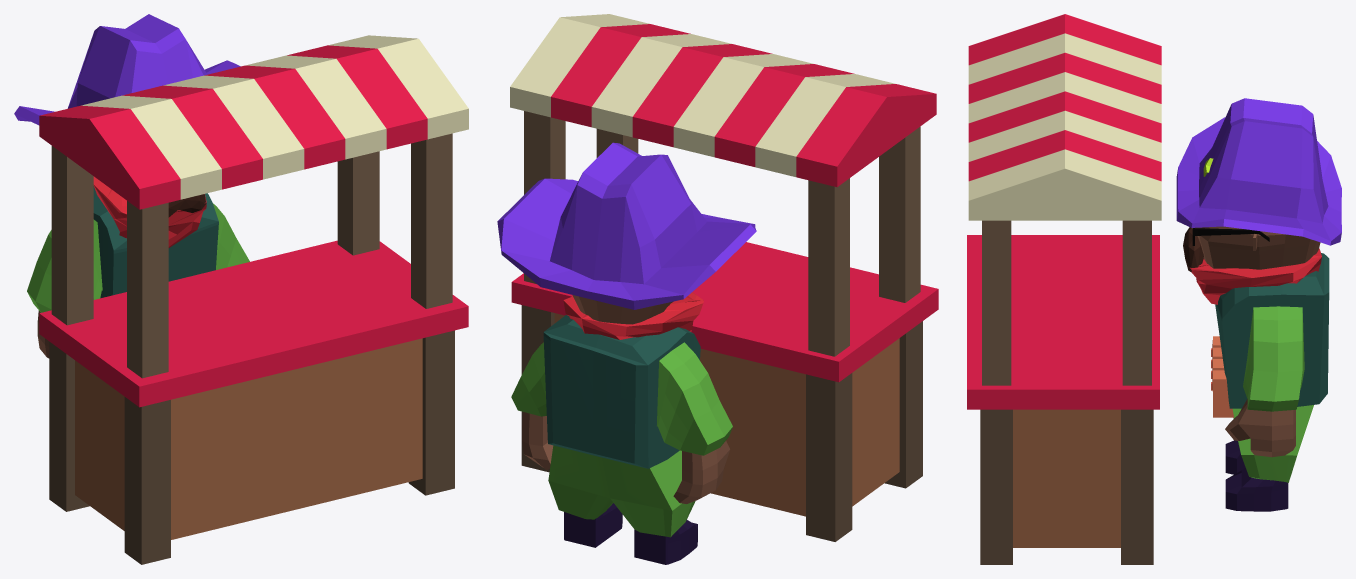
Rendered from shop.glb.
3 views of the same model, side by side, from view 1: azimuth 30°, elevation 25°; view 2: azimuth 150°, elevation 25°; view 3: azimuth 270°, elevation 25° (orthographic). The views are drawn at different scales.
Parts seen in each view (by area): view 1: Cube.007, Cube.005, Cube, Cube.000, Cube.011, Cube.004, Cube.003, Cube.001, Cube.010, Cube.008, Cube.002; view 2: Cube.000, Cube.007, Cube, Cube.005, Cube.008, Cube.001, Cube.004, Cube.011, Cube.002, Cube.009, Cube.003; view 3: Cube.000, Cube.007, Cube, Cube.005, Cube.009, Cube.010, Cube.002, Cube.003.
Part boxes in pixels (<box>): Cube.007: <box>39,35,468,209</box>; Cube.005: <box>75,338,422,539</box>; Cube: <box>39,240,468,407</box>; Cube.000: <box>14,14,249,358</box>; Cube.011: <box>124,397,170,564</box>; Cube.004: <box>127,201,168,378</box>; Cube.003: <box>411,133,452,308</box>; Cube.001: <box>51,146,93,325</box>; Cube.010: <box>408,330,454,495</box>; Cube.008: <box>49,341,89,511</box>; Cube.002: <box>337,151,379,255</box>; Cube.000: <box>497,142,756,564</box>; Cube.007: <box>510,14,936,186</box>; Cube: <box>511,242,938,382</box>; Cube.005: <box>554,313,899,516</box>; Cube.008: <box>806,373,852,541</box>; Cube.001: <box>808,178,849,356</box>; Cube.004: <box>879,126,920,302</box>; Cube.011: <box>884,321,922,488</box>; Cube.002: <box>524,111,565,283</box>; Cube.009: <box>521,305,554,472</box>; Cube.003: <box>596,128,638,157</box>; Cube.000: <box>1176,98,1341,511</box>; Cube.007: <box>968,14,1161,220</box>; Cube: <box>967,235,1159,409</box>; Cube.005: <box>1013,409,1120,547</box>; Cube.009: <box>1121,409,1153,564</box>; Cube.010: <box>980,409,1012,564</box>; Cube.002: <box>1122,220,1151,385</box>; Cube.003: <box>982,220,1011,385</box>.
Size of the model in its own units: 6.04 by 7.26 by 6.17.
